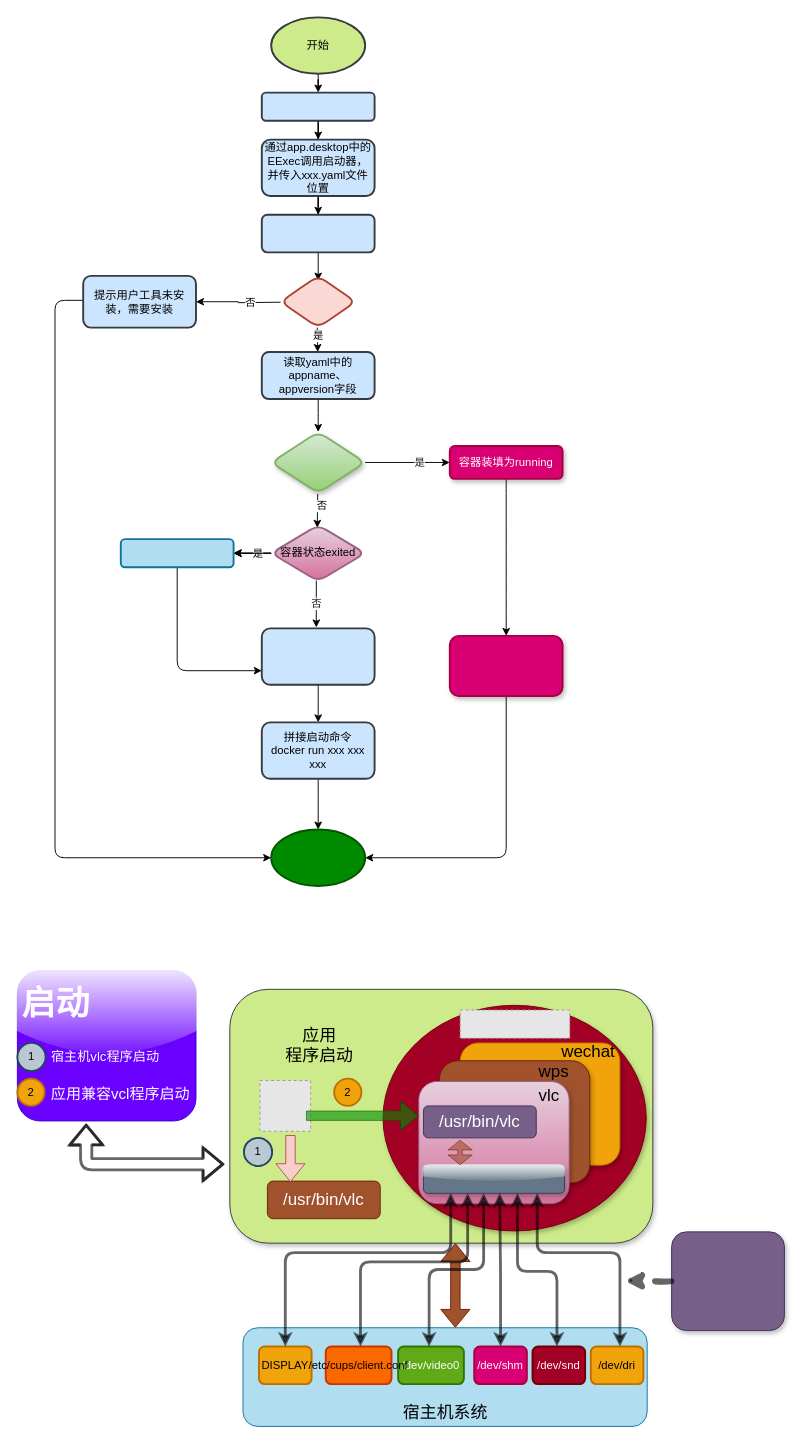
Some shapes in this 807 by 1444 pixel diagram are drawn without their labels. Grey dashed boxes stand in for pictures. The centre of each missing label's shape, as x and y in pixels:
"container" belongs at point (494, 1180).
"删除容器" belongs at point (176, 553).
"判断程序是否启动" belongs at point (318, 463).
"存在" belongs at point (317, 301).
"弹出提示窗口" belongs at point (507, 667).
"映射 将宿主机的设备、环境变量、配置等映射到容器中" belongs at point (728, 1282).
"检查yaml文件读取工具" belongs at point (317, 233).
"用户双击桌面图标" belongs at point (317, 106).
"结束" belongs at point (318, 857).
"读取yaml中的permission字段，确定要用户权限" belongs at point (317, 656).
